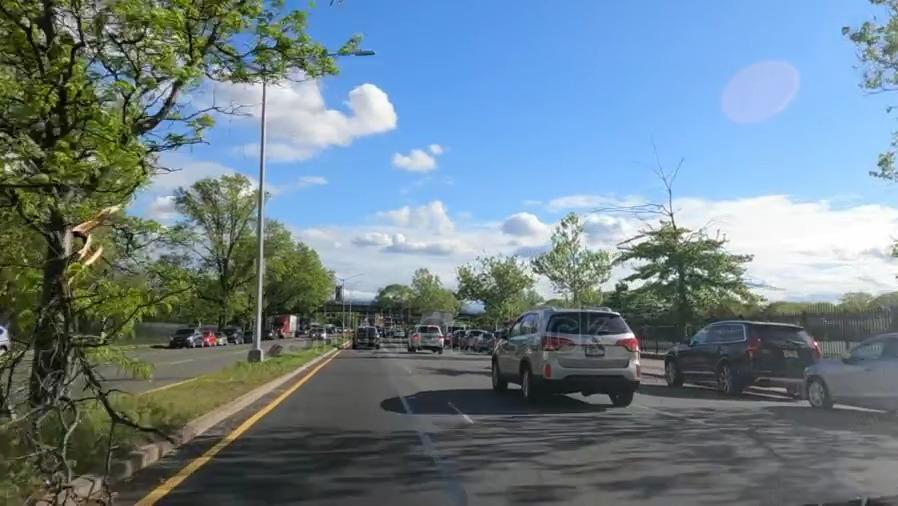car: (493, 311, 643, 395), (661, 321, 801, 391), (813, 334, 898, 419), (409, 326, 444, 352), (168, 329, 203, 350), (354, 327, 381, 347)
wheel: (710, 363, 739, 399), (805, 371, 827, 406), (660, 357, 676, 386)
